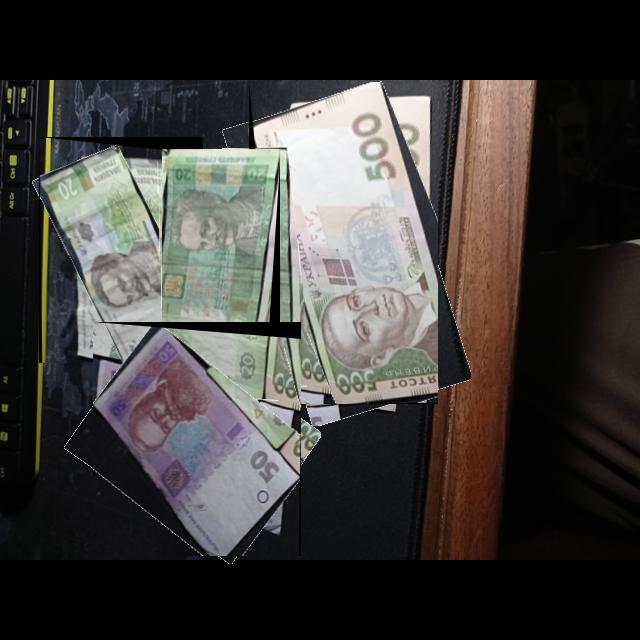20uah: (41, 144, 204, 364), (162, 149, 281, 386)
500uah: (253, 82, 439, 405)
50uah: (93, 327, 300, 557)
